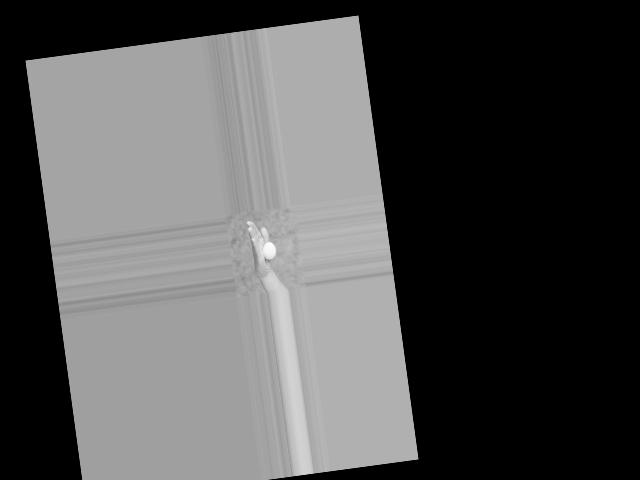egg: (261, 241, 277, 260)
